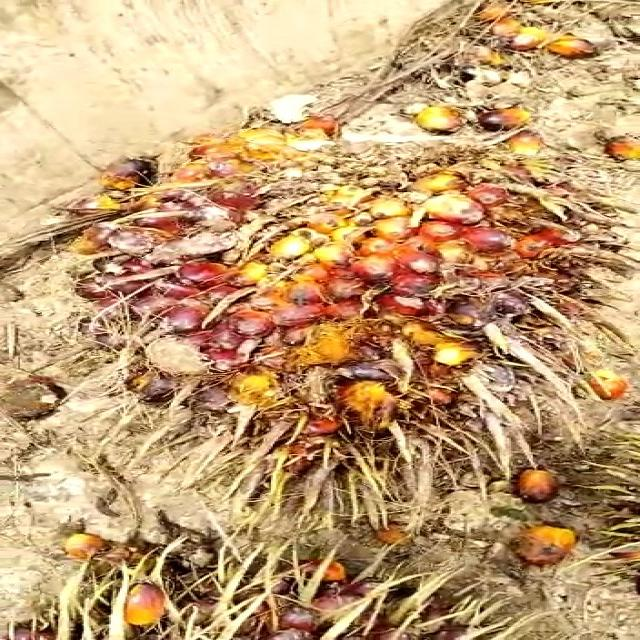palm oil: (89, 104, 628, 477)
